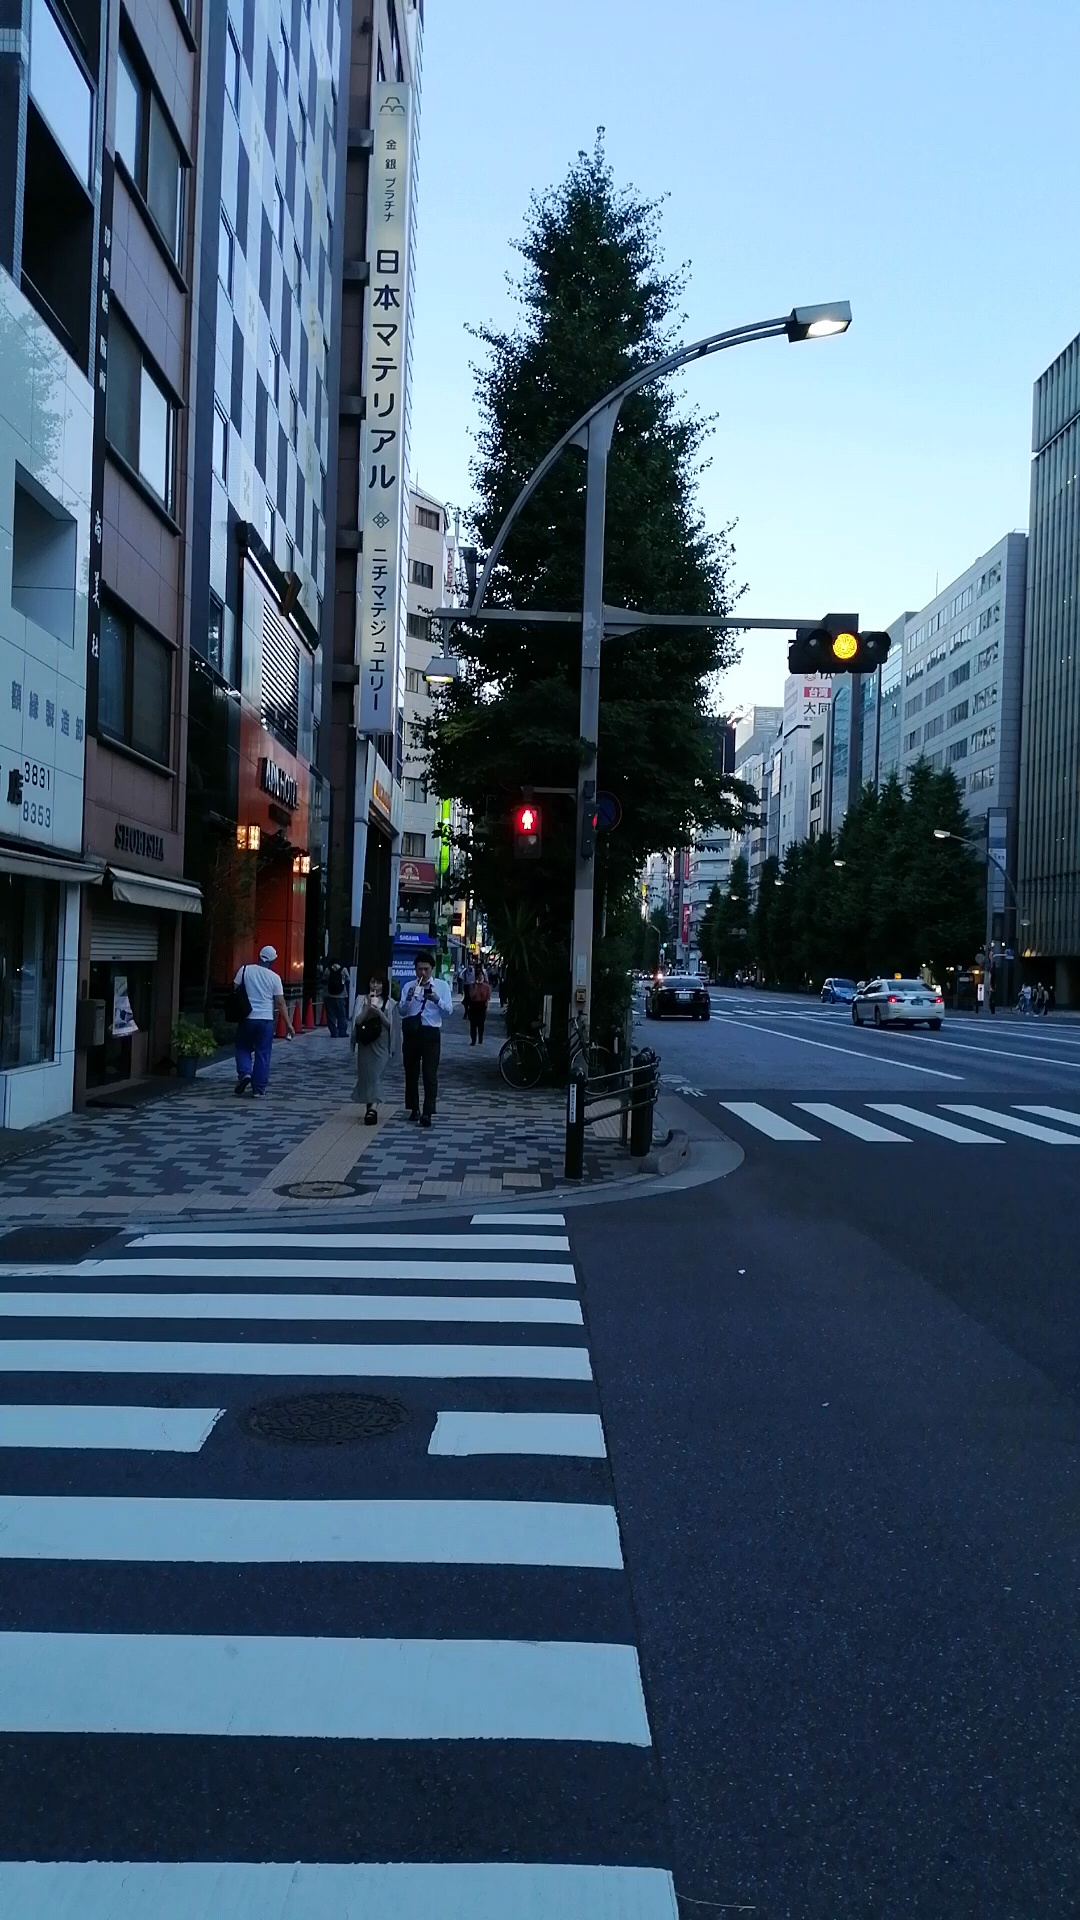red: (512, 800, 549, 869)
